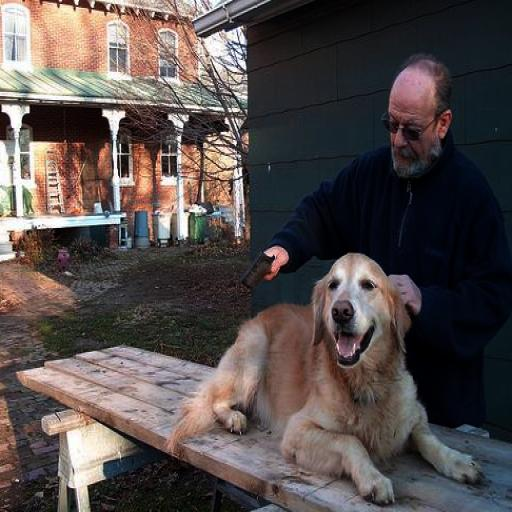dog_face: (312, 254, 405, 370)
